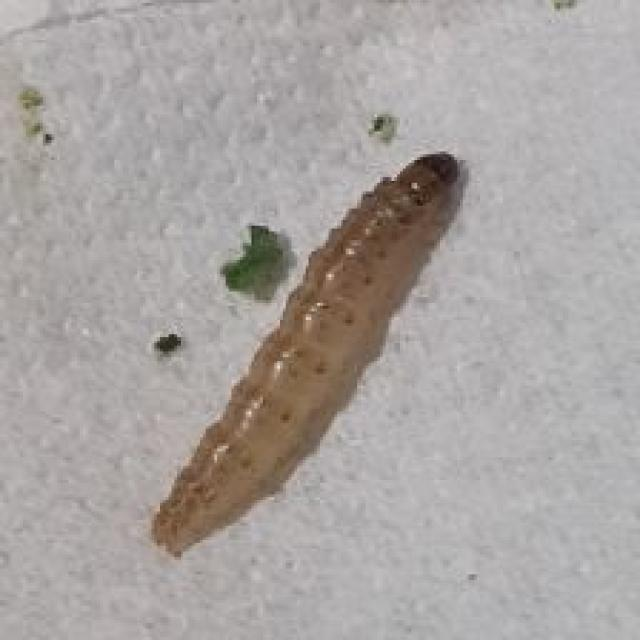white mucus: (154, 148, 516, 562)
